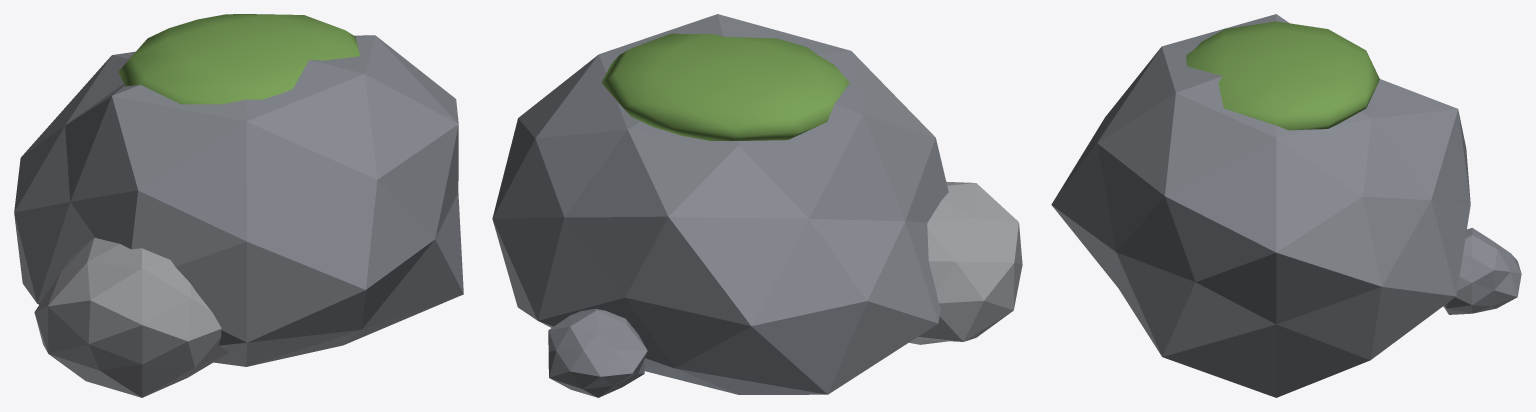
The model's file is Rock1.glb.
The picture shows the model from 3 angles, left to right: view 1: azimuth 30°, elevation 25°; view 2: azimuth 150°, elevation 25°; view 3: azimuth 270°, elevation 25°; orthographic projection. The views are drawn at different scales.
Visible parts, largest first — view 1: Rock1; view 2: Rock1; view 3: Rock1.
Boxes of the visible parts, <box> form: Rock1: <box>14,14,463,397</box>; Rock1: <box>492,14,1022,397</box>; Rock1: <box>1051,14,1521,397</box>.
Bounding box in the file's own units: 2.12 × 1.46 × 2.04.
